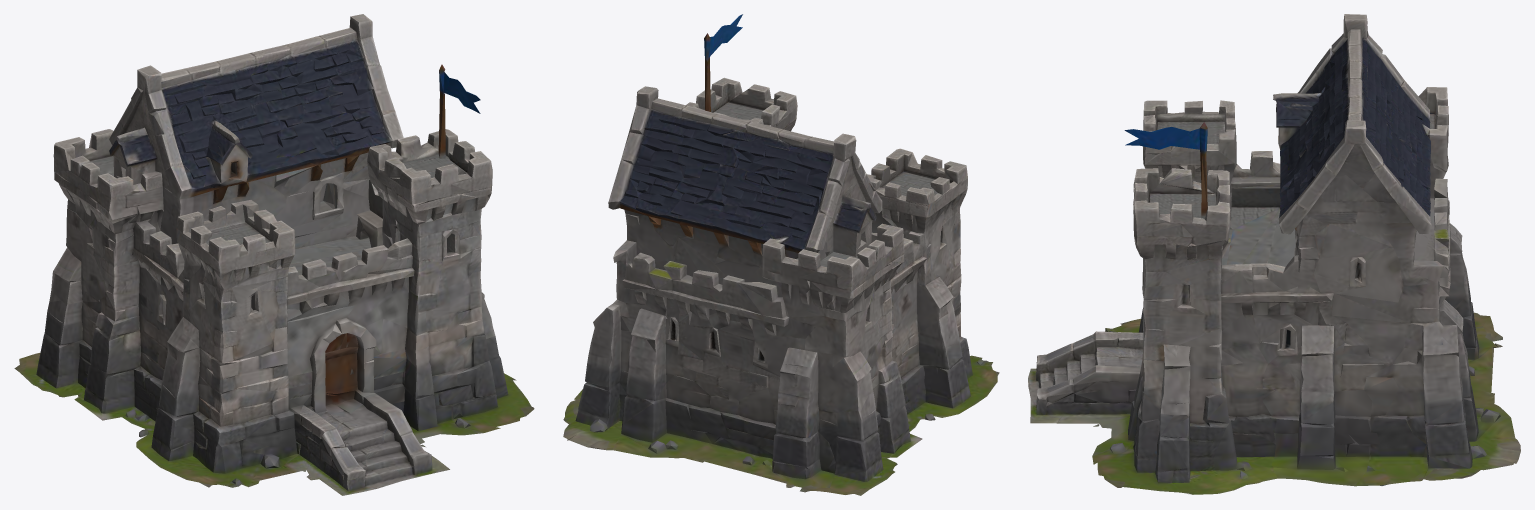
File: castle.glb
The picture shows the model from 3 angles, left to right: view 1: azimuth 30°, elevation 25°; view 2: azimuth 150°, elevation 25°; view 3: azimuth 270°, elevation 25°; orthographic projection. The views are drawn at different scales.
Bounding box in the file's own units: 1.71 × 1.46 × 1.9.
Materials: 1 (1 with a texture image).
